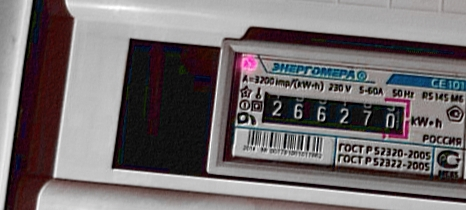0: (383, 111, 397, 129)
2: (269, 98, 284, 117), (338, 106, 350, 125)
6: (315, 104, 328, 124), (292, 101, 305, 120)
7: (360, 108, 373, 127)
screen: (251, 81, 418, 146)
